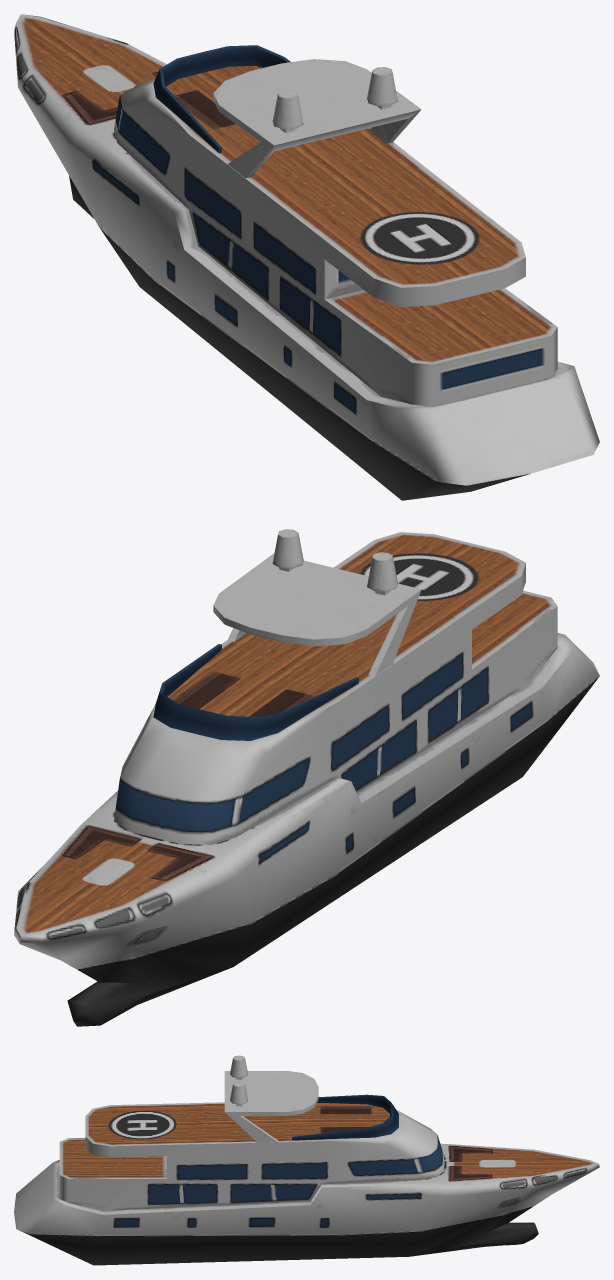
The model's file is MB_Yacht_Big.fbx.
3 views of the same model, one above another, from view 1: azimuth 30°, elevation 25°; view 2: azimuth 150°, elevation 25°; view 3: azimuth 270°, elevation 25° (orthographic). The views are drawn at different scales.
Parts seen in each view (by area): view 1: MB_Yacht_Big; view 2: MB_Yacht_Big; view 3: MB_Yacht_Big.
Boxes of the visible parts, bbox=[...] form: MB_Yacht_Big: bbox=[14, 14, 599, 500]; MB_Yacht_Big: bbox=[14, 529, 599, 1026]; MB_Yacht_Big: bbox=[14, 1055, 599, 1265].
Bounding box in the file's own units: 815 × 1345 × 4026.
